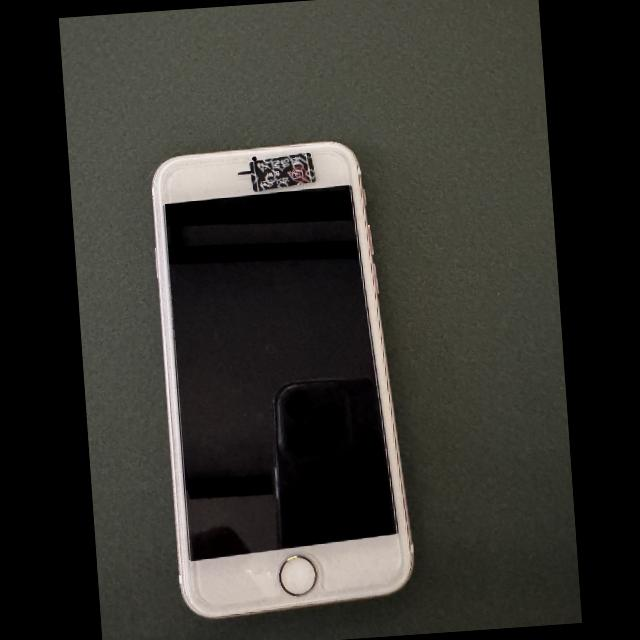lens: (251, 155, 257, 161)
phone: (152, 142, 413, 617)
sticker: (249, 151, 315, 192)
